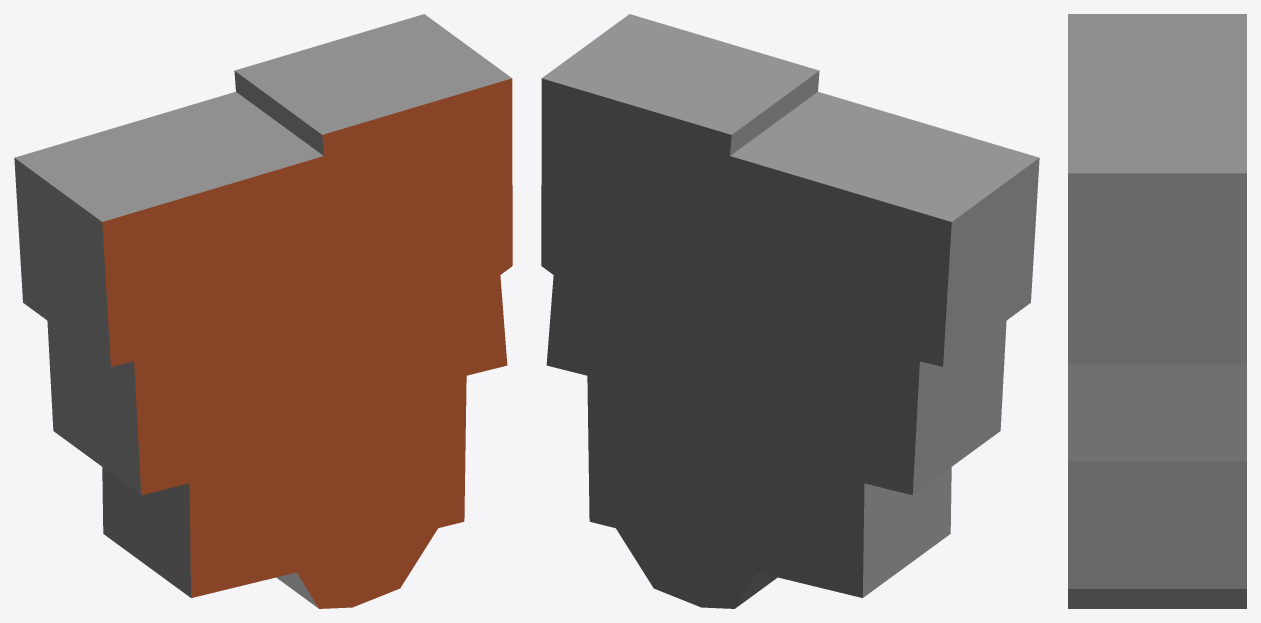
File: construction_3693_assumed_A_Casa_h6m.obj
3 views of the same model, side by side, from view 1: azimuth 30°, elevation 25°; view 2: azimuth 150°, elevation 25°; view 3: azimuth 270°, elevation 25° (orthographic).
Parts seen in each view (by area): view 1: construction_3693_assumed_A_Casa; view 2: construction_3693_assumed_A_Casa; view 3: construction_3693_assumed_A_Casa.
Part boxes in pixels (<box>): construction_3693_assumed_A_Casa: <box>14,14,512,608</box>; construction_3693_assumed_A_Casa: <box>541,14,1039,608</box>; construction_3693_assumed_A_Casa: <box>1068,14,1246,608</box>.
Bounding box in the file's own units: 16.17 × 18.46 × 6.
